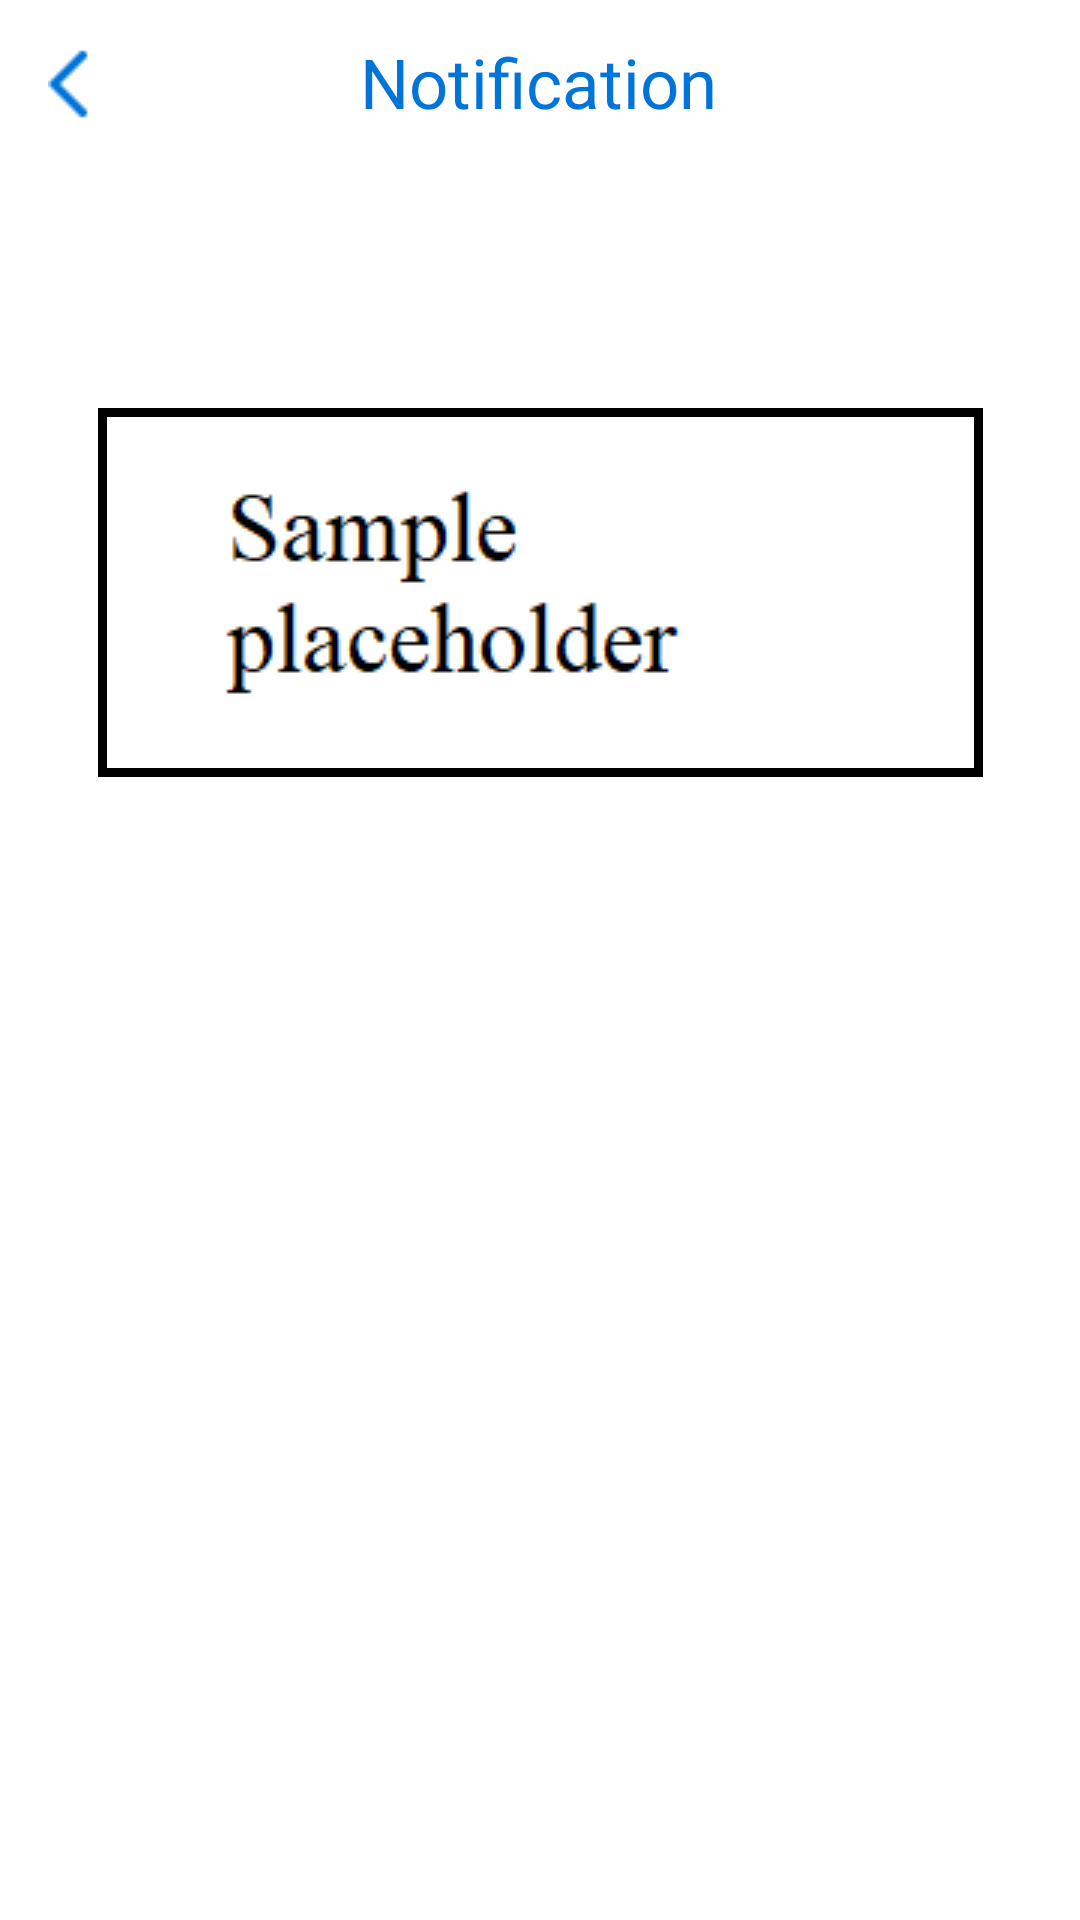

Screen size 1080 x 1920. Icon name, then its center in pixels as point (x, y):
back arrow: point (68, 84)
